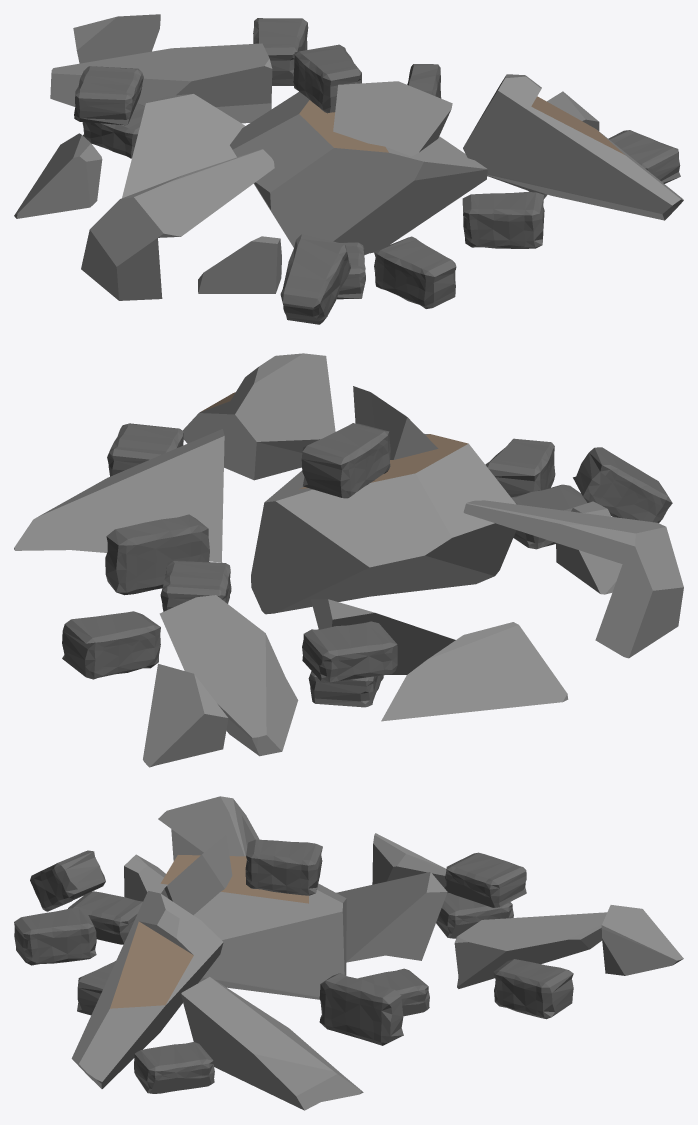
File: Bridge shards 2.fbx
3 renders of one model, top to bottom at view 1: azimuth 30°, elevation 25°; view 2: azimuth 150°, elevation 25°; view 3: azimuth 270°, elevation 25°, orthographic. The views are drawn at different scales.
Visible parts, largest first — view 1: Bridge shards 2; view 2: Bridge shards 2; view 3: Bridge shards 2.
Part boxes in pixels (box(x1,y1,x2,y2)): Bridge shards 2: box(14, 14, 683, 324); Bridge shards 2: box(14, 353, 683, 767); Bridge shards 2: box(14, 796, 683, 1110).
Bounding box in the file's own units: 10.03 × 2.89 × 11.65.
